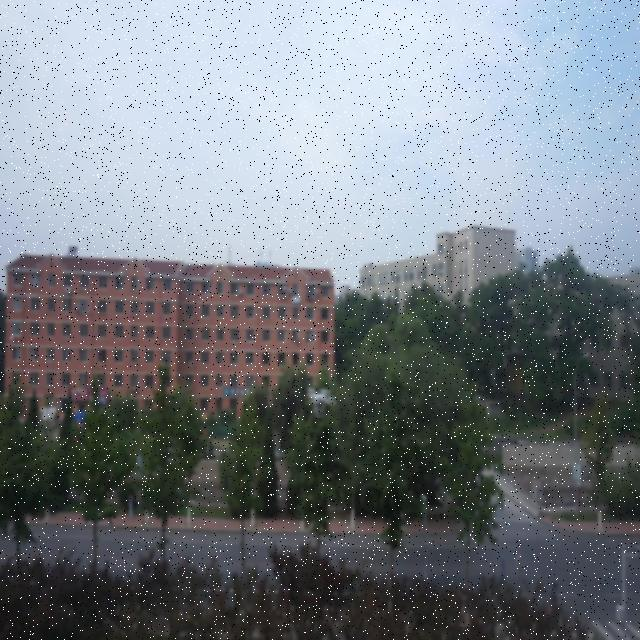UAV: (307, 387, 336, 417)
